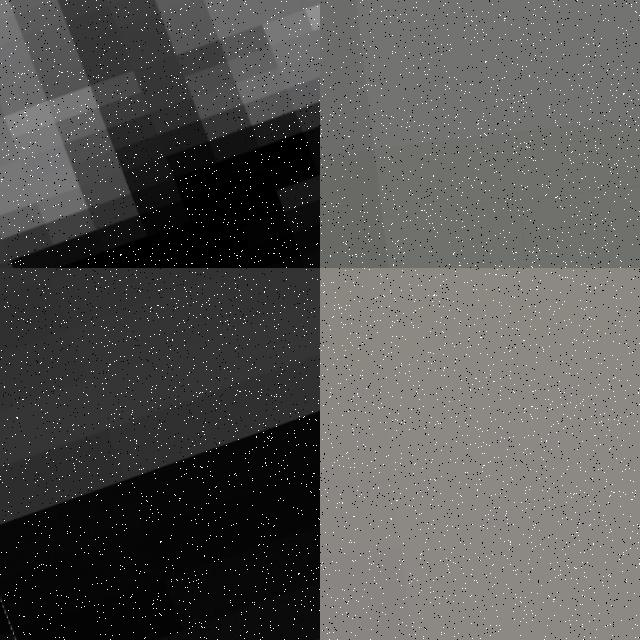drone: (0, 268, 320, 640), (0, 0, 320, 268)
